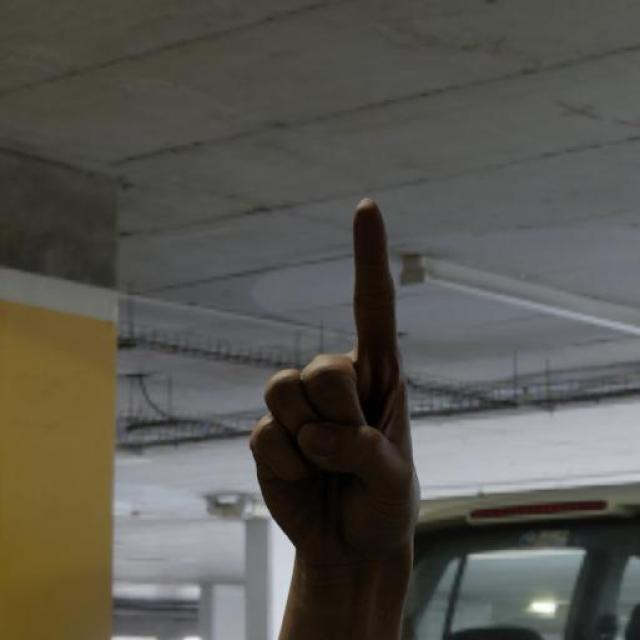Z: (242, 195, 425, 560)
